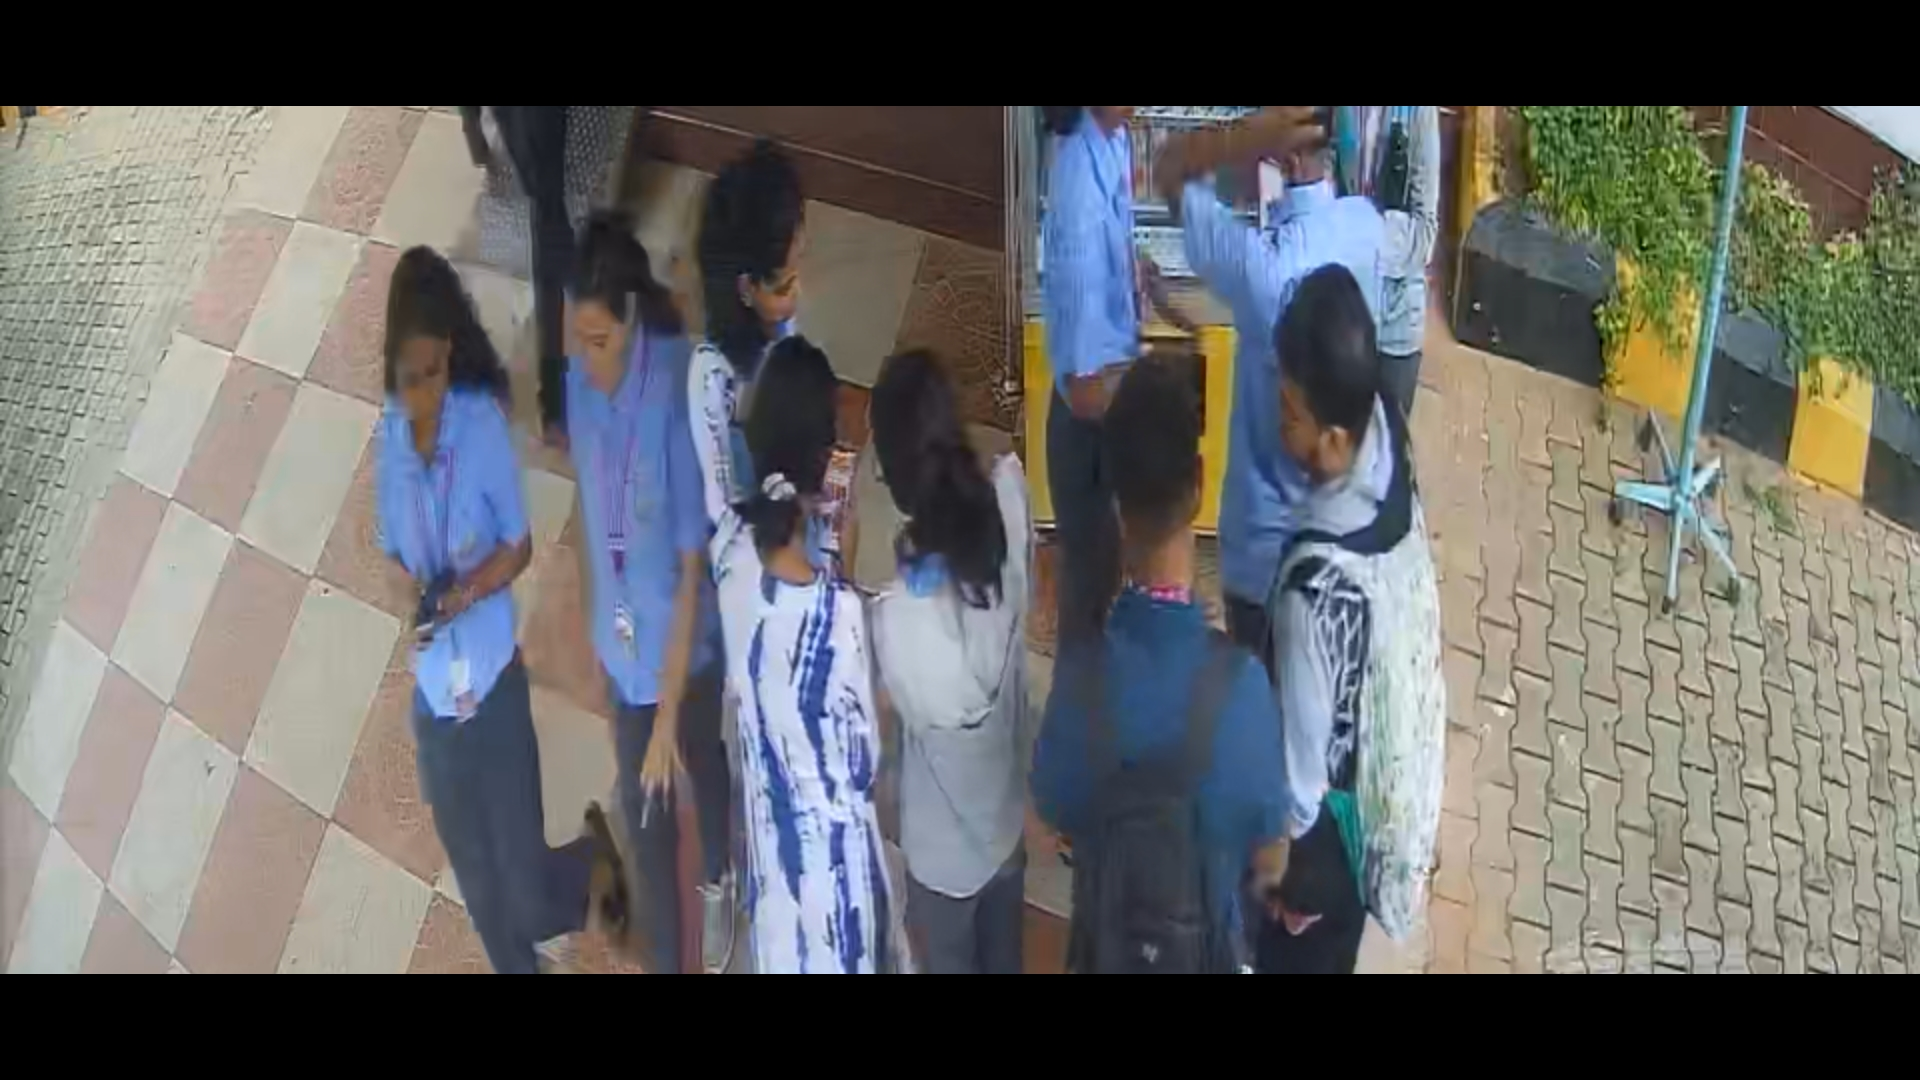not intruder: (353, 269, 615, 1025), (546, 207, 737, 938)
